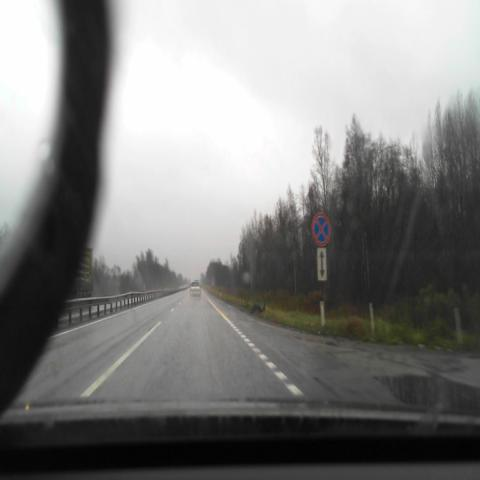3_27: (311, 213, 331, 246)
8_2_4: (317, 248, 327, 282)
